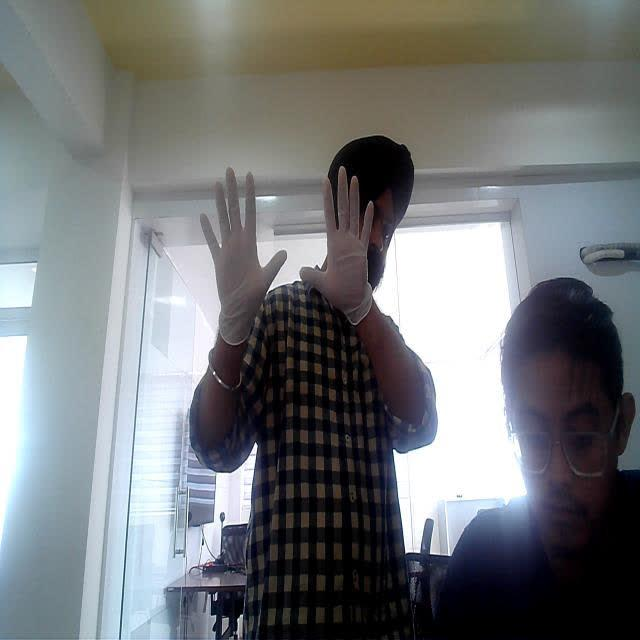with_gloves: (200, 170, 291, 342), (310, 174, 383, 343)
